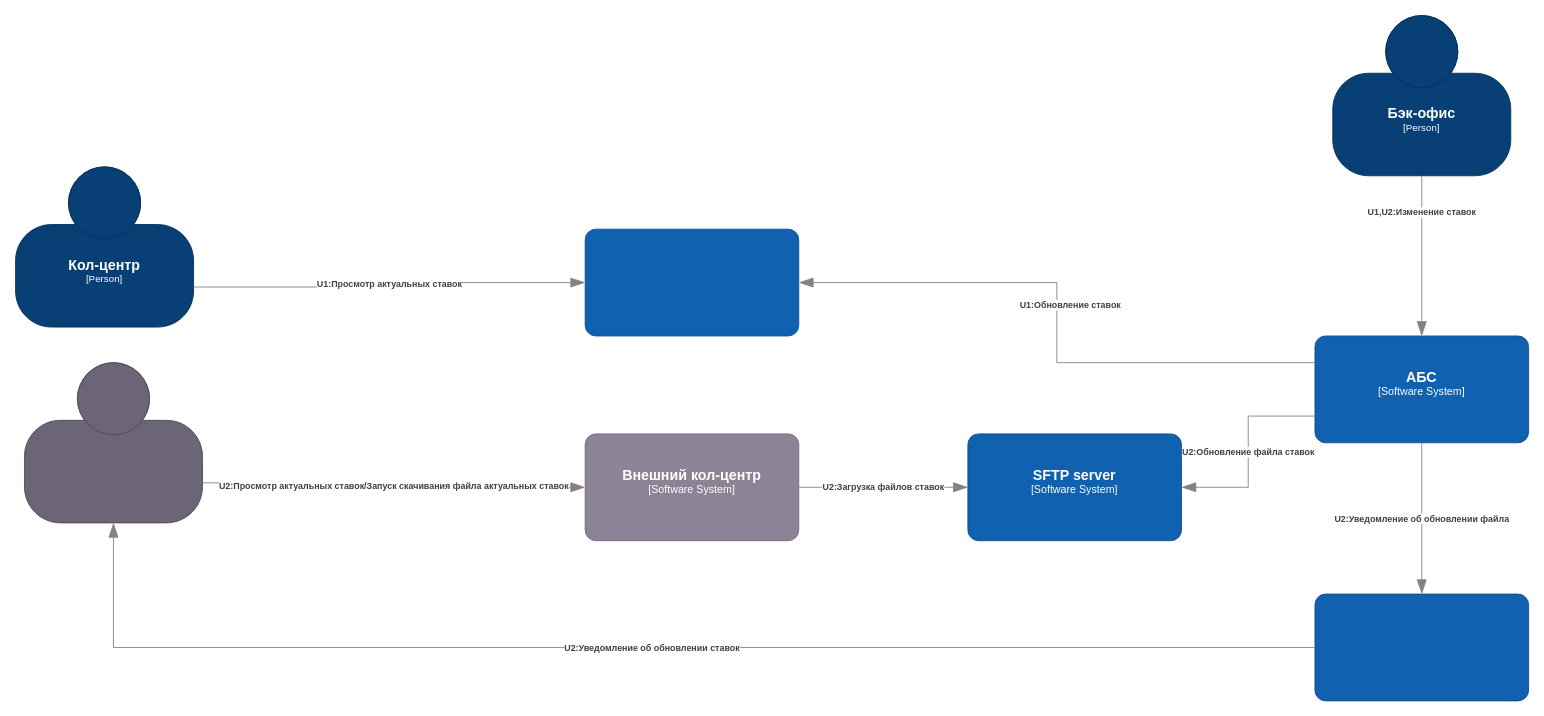
Some shapes in this 1544 by 716 pixel diagram are drawn without their labels. Here are the shapes that lost their labels. From the top down, the box of each, then its label:
(584, 228, 799, 336): Кол-центр [Software System]
(24, 362, 202, 523): Внешний кол-центр [Person] Description of external person.
(1314, 593, 1529, 701): Email Server [Software System]
